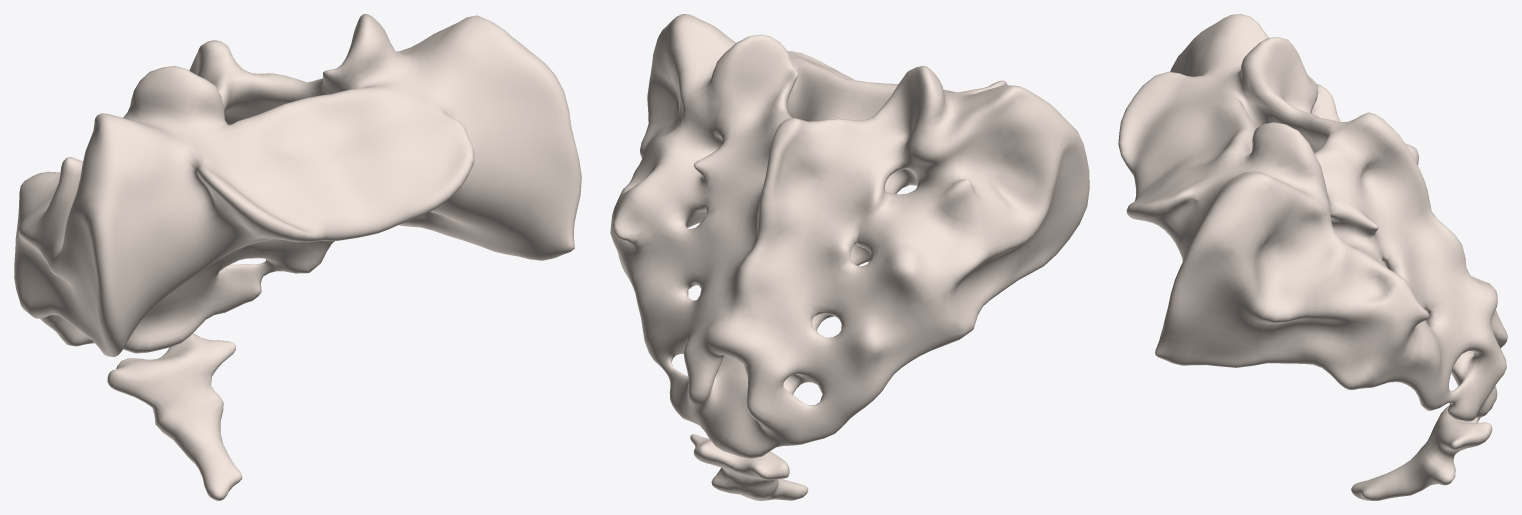
The model's file is pelvis-bones.glb.
3 renders of one model, left to right at view 1: azimuth 30°, elevation 25°; view 2: azimuth 150°, elevation 25°; view 3: azimuth 270°, elevation 25°, orthographic. The views are drawn at different scales.
Visible parts, largest first — view 1: VH_F_sacrum, VH_F_coccyx; view 2: VH_F_sacrum, VH_F_coccyx; view 3: VH_F_sacrum, VH_F_coccyx.
Part boxes in pixels (bbox=[...]): VH_F_sacrum: bbox=[14, 14, 581, 356]; VH_F_coccyx: bbox=[107, 333, 242, 500]; VH_F_sacrum: bbox=[610, 14, 1089, 458]; VH_F_coccyx: bbox=[690, 434, 808, 500]; VH_F_sacrum: bbox=[1118, 14, 1507, 421]; VH_F_coccyx: bbox=[1351, 406, 1492, 500].
Size of the model in its own units: 0.1274 by 0.1247 by 0.1049.
